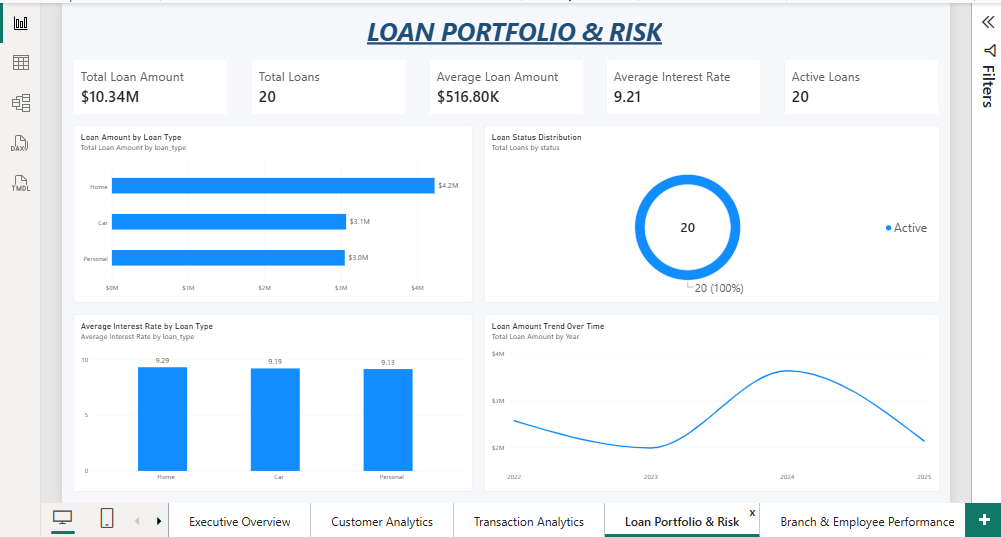

What the dashboard file says about the page in this screenshot:
{"tool":"powerbi","page":{"name":"Loan Portfolio & Risk","canvas":[1920,1080],"ordinal":3},"visuals":[{"type":"textbox","box":[648,24,648,72],"z":0},{"type":"cardVisual","fields":{"Data":["Accounts.Total Loan Amount"]},"box":[24,120,336,120],"z":1000},{"type":"cardVisual","fields":{"Data":["Accounts.Total Loans"]},"box":[408,120,336,120],"z":2000},{"type":"cardVisual","fields":{"Data":["Accounts.Average Loan Amount"]},"box":[792,120,336,120],"z":3000},{"type":"cardVisual","fields":{"Data":["Accounts.Average Interest Rate"]},"box":[1176,120,336,120],"z":4000},{"type":"cardVisual","fields":{"Data":["Accounts.Active Loans"]},"box":[1560,120,336,120],"z":5000},{"type":"clusteredBarChart","title":"Loan Amount by Loan Type","fields":{"Category":["Loans.loan_type"],"Y":["Accounts.Total Loan Amount"]},"box":[24,264,864,384],"z":6000},{"type":"donutChart","title":"Loan Status Distribution","fields":{"Category":["Loans.status"],"Y":["Accounts.Total Loans"]},"box":[912,264,984,384],"z":7000},{"type":"clusteredColumnChart","title":"Average Interest Rate by Loan Type","fields":{"Category":["Loans.loan_type"],"Y":["Accounts.Average Interest Rate"]},"box":[24,672,864,384],"z":8000},{"type":"lineChart","title":"Loan Amount Trend Over Time","fields":{"Category":["Loans.issue_date.Variation.Date Hierarchy.Year","Loans.issue_date.Variation.Date Hierarchy.Month"],"Y":["Accounts.Total Loan Amount"]},"box":[912,672,984,384],"z":9000}]}

Visuals, with their boxes on the page's 1920x1080 design canvas (x1, y1, x2, y2). These are canvas units, not pixel positions in the 1001x537 screenshot, which may show the page scaled, cropped or inside an application window:
textbox: region(648, 24, 1296, 96)
cardVisual - Accounts.Total Loan Amount: region(24, 120, 360, 240)
cardVisual - Accounts.Total Loans: region(408, 120, 744, 240)
cardVisual - Accounts.Average Loan Amount: region(792, 120, 1128, 240)
cardVisual - Accounts.Average Interest Rate: region(1176, 120, 1512, 240)
cardVisual - Accounts.Active Loans: region(1560, 120, 1896, 240)
"Loan Amount by Loan Type" clusteredBarChart: region(24, 264, 888, 648)
"Loan Status Distribution" donutChart: region(912, 264, 1896, 648)
"Average Interest Rate by Loan Type" clusteredColumnChart: region(24, 672, 888, 1056)
"Loan Amount Trend Over Time" lineChart: region(912, 672, 1896, 1056)
